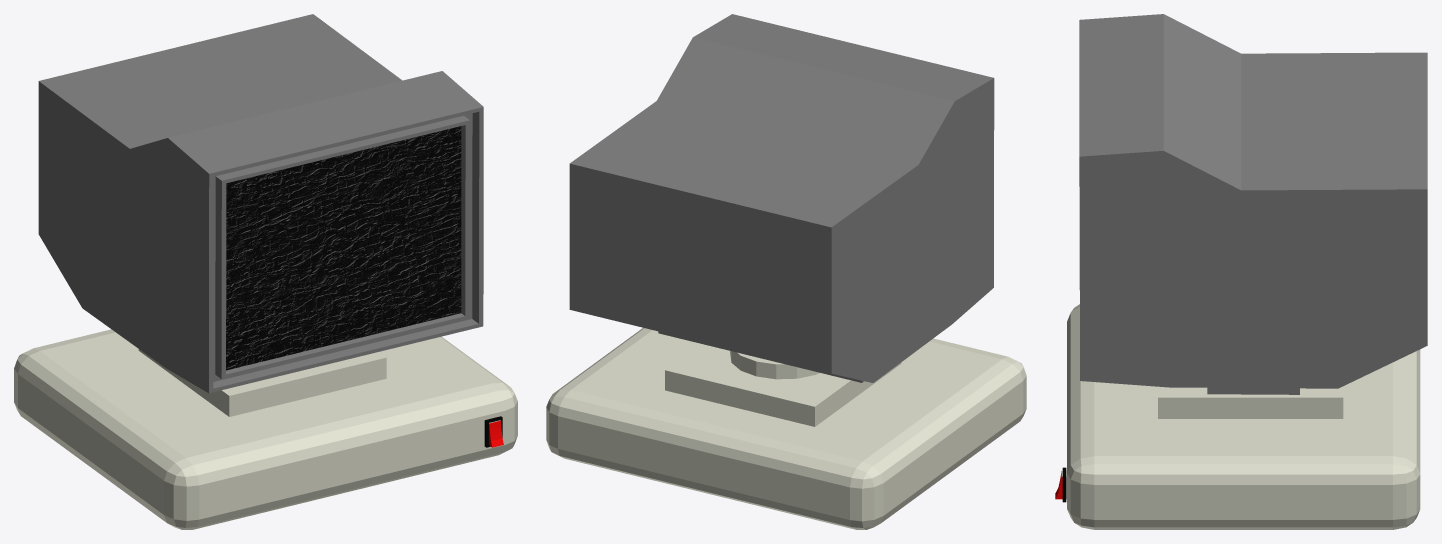
Rendered from ClearAsteroids.fbx.
The picture shows the model from 3 angles, left to right: view 1: azimuth 30°, elevation 25°; view 2: azimuth 150°, elevation 25°; view 3: azimuth 270°, elevation 25°; orthographic projection. The views are drawn at different scales.
Parts seen in each view (by area): view 1: ClearAsteroids; view 2: ClearAsteroids; view 3: ClearAsteroids.
Part boxes in pixels (left/top/right/bottom): ClearAsteroids: left=14, top=14, right=517, bottom=529; ClearAsteroids: left=546, top=14, right=1026, bottom=529; ClearAsteroids: left=1055, top=14, right=1427, bottom=529.
Bounding box in the file's own units: 198 × 195 × 179.
